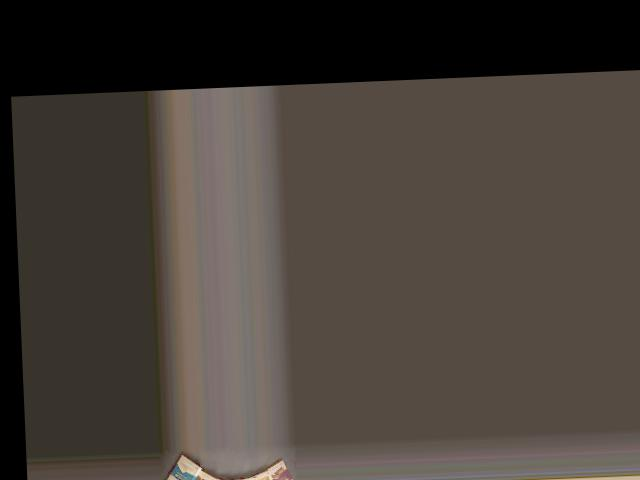chocolate: (160, 450, 203, 480)
